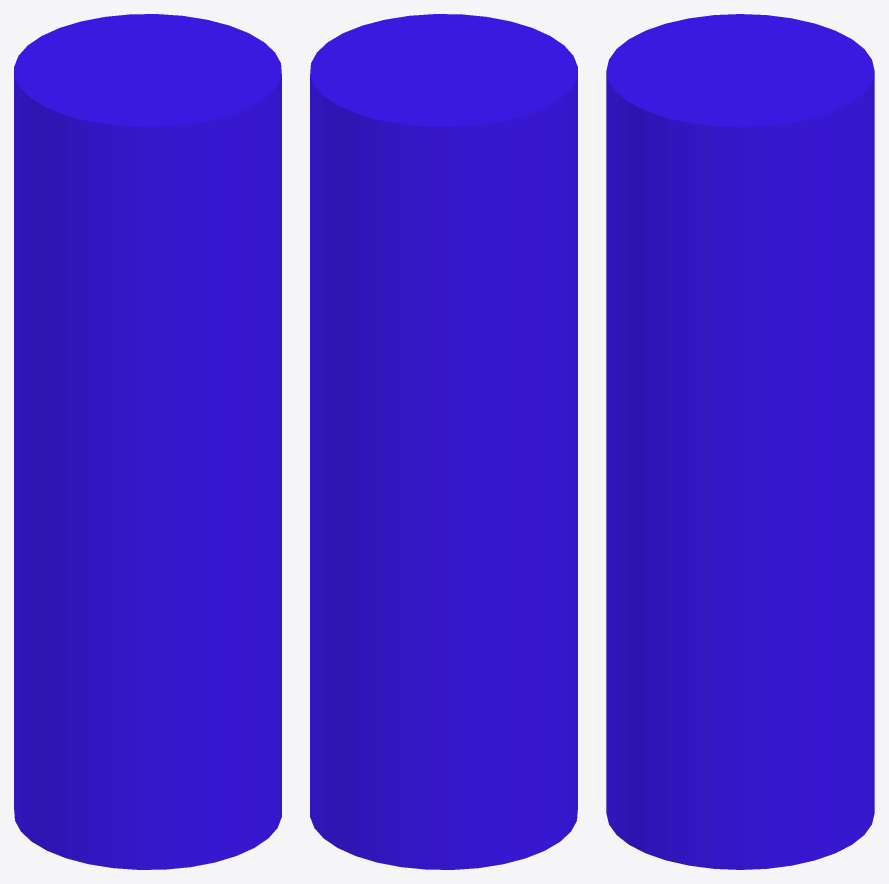
Rendered from junk-pipe.glb.
3 views of the same model, side by side, from view 1: azimuth 30°, elevation 25°; view 2: azimuth 150°, elevation 25°; view 3: azimuth 270°, elevation 25° (orthographic).
Visible parts, largest first — view 1: Cylinder; view 2: Cylinder; view 3: Cylinder.
Boxes of the visible parts, x1,y1,x2,y2 form: Cylinder: [14, 14, 281, 869]; Cylinder: [310, 14, 577, 869]; Cylinder: [606, 14, 874, 869].
Size of the model in its own units: 0.3675 by 1.12 by 0.3675.
